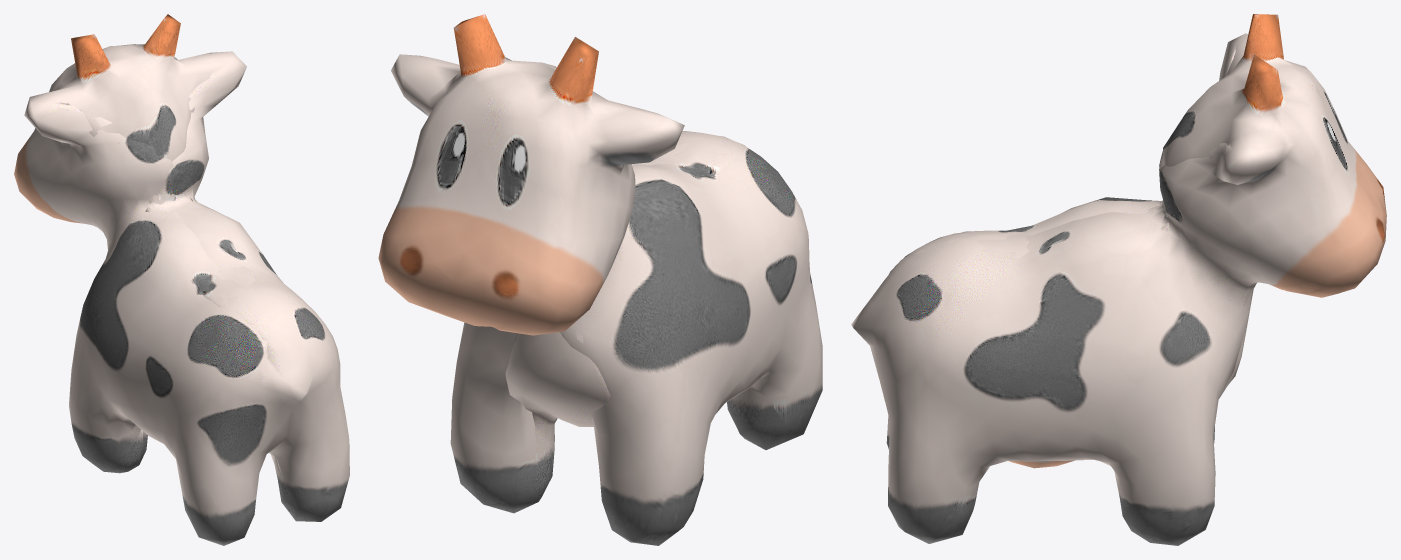
3 views of the same model, side by side, from view 1: azimuth 30°, elevation 25°; view 2: azimuth 150°, elevation 25°; view 3: azimuth 270°, elevation 25° (orthographic). The views are drawn at different scales.
Parts seen in each view (by area): view 1: pMesh1; view 2: pMesh1; view 3: pMesh1.
Part boxes in pixels (left/top/right/bottom): pMesh1: left=14, top=14, right=349, bottom=545; pMesh1: left=378, top=14, right=822, bottom=545; pMesh1: left=851, top=14, right=1386, bottom=545.
Size of the model in its own units: 0.944 by 1.7 by 1.72.
1 material, 1 textured.
